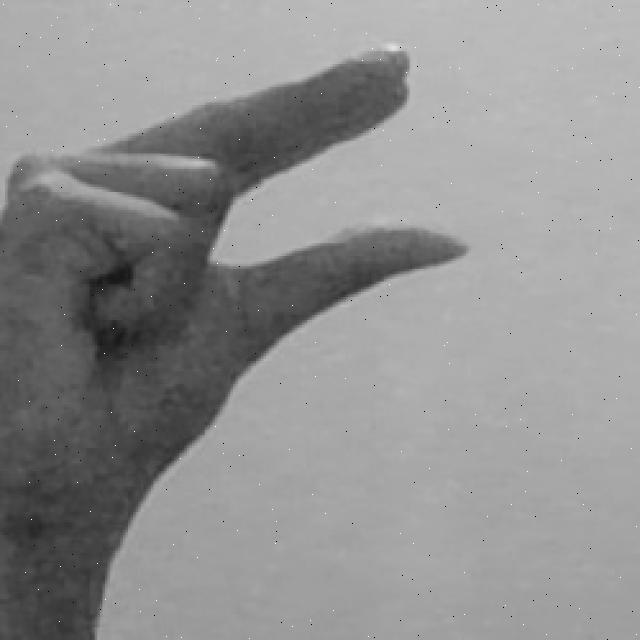G: (0, 41, 471, 640)
